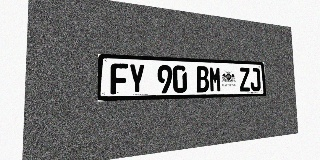0: (173, 65, 187, 93)
9: (157, 65, 173, 93)
B: (196, 66, 209, 92)
F: (110, 63, 128, 94)
J: (250, 68, 261, 91)
M: (209, 66, 222, 92)
Y: (129, 64, 145, 94)
Z: (239, 67, 251, 91)
